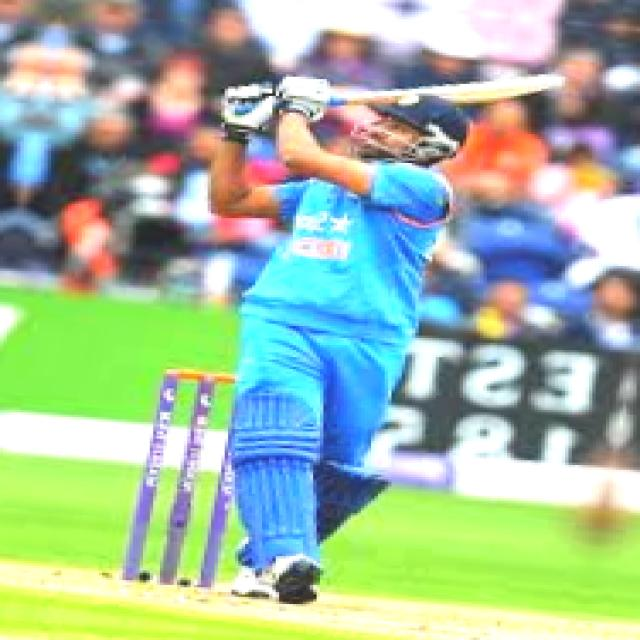toe: (541, 70, 572, 96)
